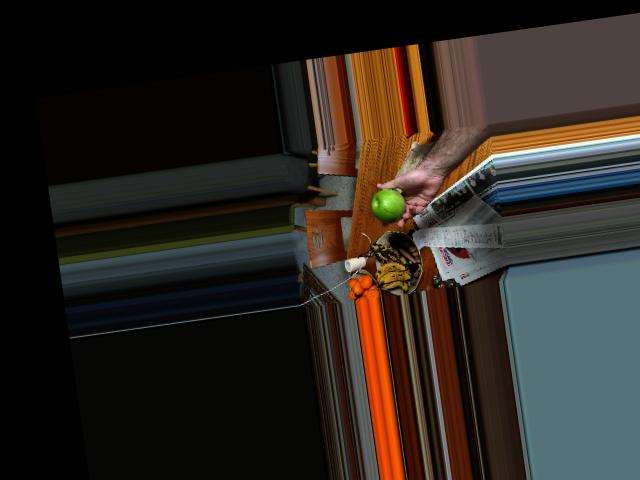apple: (370, 186, 409, 224)
